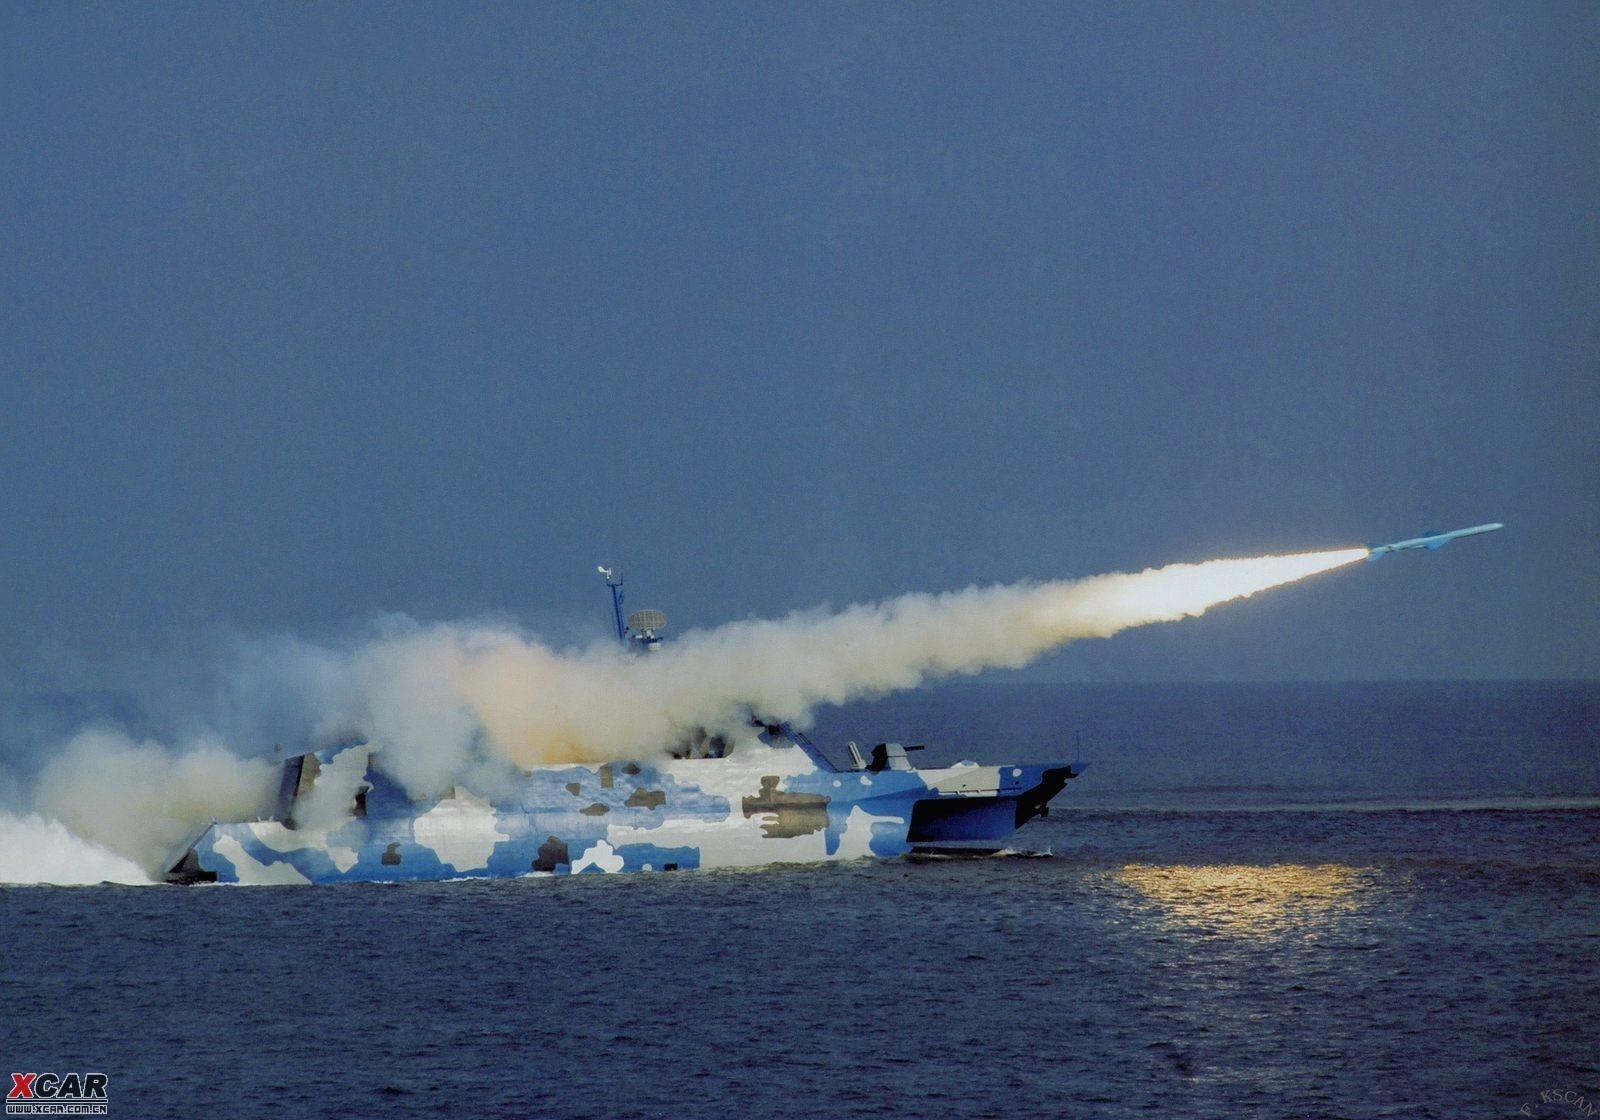warship: (142, 545, 1080, 888)
